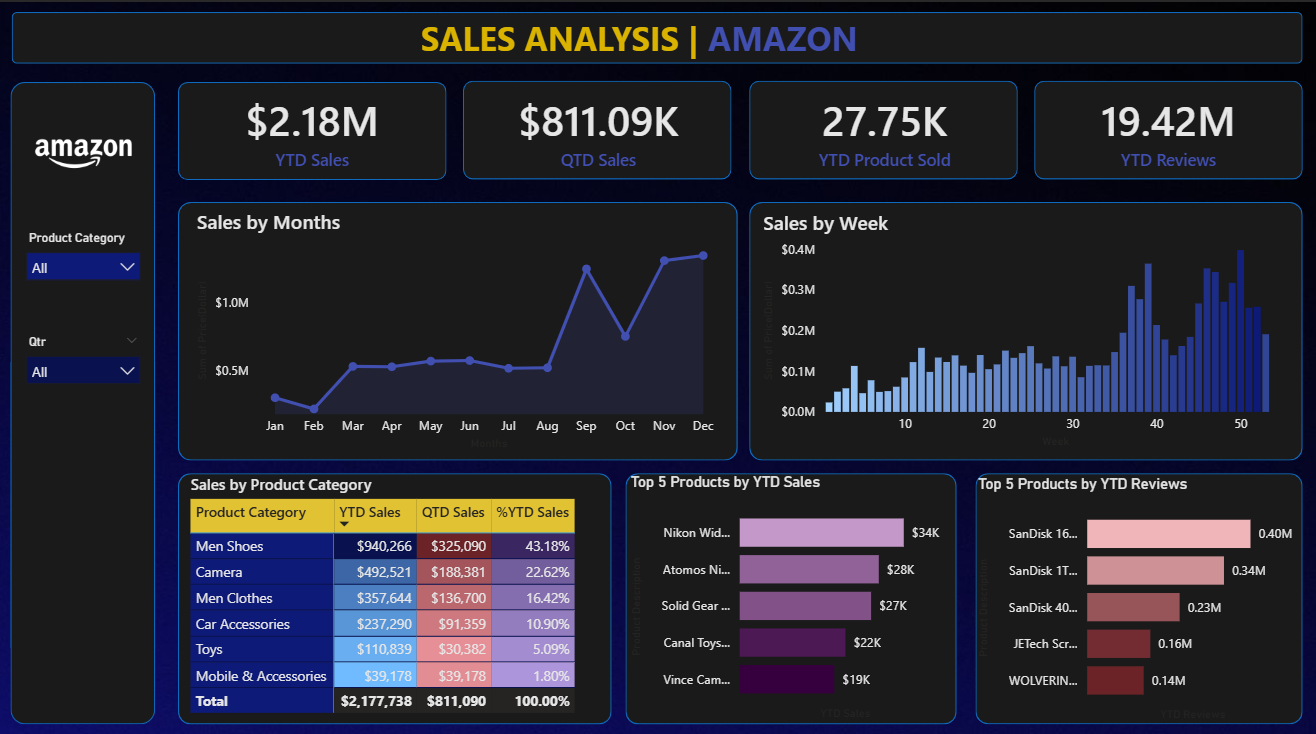

This screenshot's page, from the dashboard's own definition file:
{"tool":"powerbi","page":{"name":"Page 1","canvas":[1280,720],"ordinal":0},"visuals":[{"type":"shape","box":[13.3,9.7,1250,50],"z":0},{"type":"textbox","box":[417.6,9.7,440.6,53.3],"z":1000},{"type":"shape","box":[12.1,77.5,140,622],"z":2000},{"type":"shape","box":[174.3,77.5,260,95],"z":3000},{"type":"card","fields":{"Values":["Amazon_Data.YTD Sales"]},"box":[216.7,81.1,175.5,87.2],"z":4000},{"type":"shape","box":[450.5,76.3,260.3,95.6],"z":5000},{"type":"shape","box":[727,76.3,260.3,95.6],"z":6000},{"type":"shape","box":[1003.5,76.3,260.3,95.6],"z":7000},{"type":"card","fields":{"Values":["Amazon_Data.QTD Sales"]},"box":[493.9,81.1,175.5,87.2],"z":8000},{"type":"card","fields":{"Values":["Amazon_Data.YTD Product Sold"]},"box":[771.1,81.1,175.5,87.2],"z":9000},{"type":"card","fields":{"Values":["Amazon_Data.YTD Reviews"]},"box":[1045.9,81.1,175.5,87.2],"z":10000},{"type":"shape","box":[174.3,193.7,542.3,250.6],"z":10001},{"type":"areaChart","title":"Sales by Months","fields":{"Category":["date_table.Mounths"],"Y":["Sum(Amazon_Data.Price(Dollar))"]},"box":[187.6,199.7,515.7,238.5],"z":10002},{"type":"shape","box":[727.5,193.7,536.3,250.6],"z":10003},{"type":"columnChart","title":"Sales by Week","fields":{"Category":["date_table.Week"],"Y":["Sum(Amazon_Data.Price(Dollar))"]},"box":[736,200.9,520.5,236],"z":10004},{"type":"shape","box":[174.3,456.4,420,243.3],"z":10005},{"type":"pivotTable","title":"Sales by Product Category","fields":{"Rows":["Amazon_Data.Product Category"],"Values":["Amazon_Data.YTD Sales","Amazon_Data.QTD Sales","Divide(Amazon_Data.YTD Sales, ScopedEval(Amazon_Data.YTD Sales, []))"]},"box":[181.6,456.4,400.7,243.3],"z":10006},{"type":"shape","box":[607.7,456.4,320.8,243.3],"z":10007},{"type":"shape","box":[946.6,456.4,317.2,243.3],"z":10008},{"type":"clusteredBarChart","title":"Top 5 Products by YTD Sales","fields":{"Category":["Amazon_Data.Product Description"],"Y":["Amazon_Data.YTD Sales"]},"box":[607.7,456.4,320.8,243.3],"z":10009},{"type":"clusteredBarChart","title":"Top 5 Products by YTD Reviews","fields":{"Category":["Amazon_Data.Product Description"],"Y":["Amazon_Data.YTD Reviews"]},"box":[944.2,457.6,320.8,243.3],"z":10010},{"type":"slicer","fields":{"Values":["Amazon_Data.Product Category"]},"box":[16.9,216.7,130.7,71.4],"z":10011},{"type":"slicer","fields":{"Values":["date_table.Qtr"]},"box":[16.9,317.2,130.7,71.4],"z":10012},{"type":"image","box":[13.3,76.3,139.2,139.2],"z":10013}]}

Visuals, with their boxes in screenshot pixels (x1, y1, x2, y2), scaled from the page's 1280x720 canvas onto the 1316x734 screenshot:
shape: (x1=14, y1=10, x2=1299, y2=61)
textbox: (x1=429, y1=10, x2=882, y2=64)
shape: (x1=12, y1=79, x2=156, y2=713)
shape: (x1=179, y1=79, x2=447, y2=176)
card - Amazon_Data.YTD Sales: (x1=223, y1=83, x2=403, y2=172)
shape: (x1=463, y1=78, x2=731, y2=175)
shape: (x1=747, y1=78, x2=1015, y2=175)
shape: (x1=1032, y1=78, x2=1299, y2=175)
card - Amazon_Data.QTD Sales: (x1=508, y1=83, x2=688, y2=172)
card - Amazon_Data.YTD Product Sold: (x1=793, y1=83, x2=973, y2=172)
card - Amazon_Data.YTD Reviews: (x1=1075, y1=83, x2=1256, y2=172)
shape: (x1=179, y1=197, x2=737, y2=453)
"Sales by Months" areaChart: (x1=193, y1=204, x2=723, y2=447)
shape: (x1=748, y1=197, x2=1299, y2=453)
"Sales by Week" columnChart: (x1=757, y1=205, x2=1292, y2=445)
shape: (x1=179, y1=465, x2=611, y2=713)
"Sales by Product Category" pivotTable: (x1=187, y1=465, x2=599, y2=713)
shape: (x1=625, y1=465, x2=955, y2=713)
shape: (x1=973, y1=465, x2=1299, y2=713)
"Top 5 Products by YTD Sales" clusteredBarChart: (x1=625, y1=465, x2=955, y2=713)
"Top 5 Products by YTD Reviews" clusteredBarChart: (x1=971, y1=466, x2=1301, y2=715)
slicer - Amazon_Data.Product Category: (x1=17, y1=221, x2=152, y2=294)
slicer - date_table.Qtr: (x1=17, y1=323, x2=152, y2=396)
image: (x1=14, y1=78, x2=157, y2=220)
